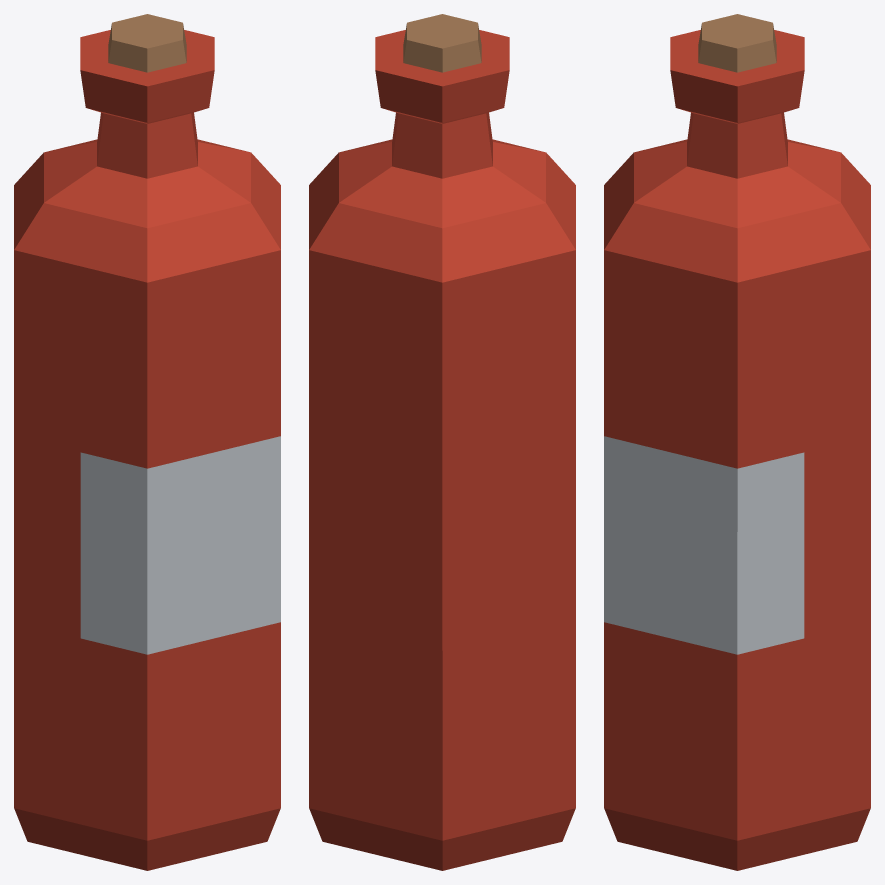
File: Red_Potion_1(Label).fbx
The picture shows the model from 3 angles, left to right: view 1: azimuth 30°, elevation 25°; view 2: azimuth 150°, elevation 25°; view 3: azimuth 270°, elevation 25°; orthographic projection.
Parts seen in each view (by area): view 1: Red_Potion_1(Label); view 2: Red_Potion_1(Label); view 3: Red_Potion_1(Label).
Part boxes in pixels (x1,y1,x2,y2): Red_Potion_1(Label): (14,14,280,870); Red_Potion_1(Label): (309,14,575,870); Red_Potion_1(Label): (604,14,870,870).
Size of the model in its own units: 13.2 by 36.92 by 11.43.
